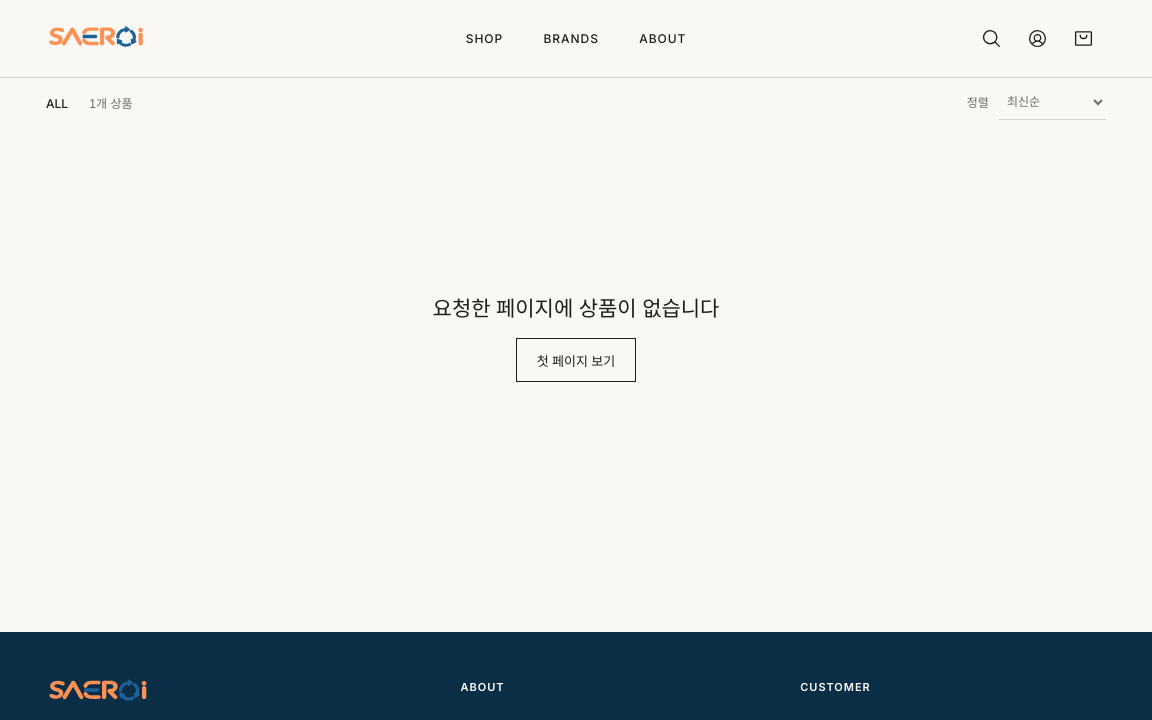
it: consumer SHOP › offers first-page recovery when a bookmarked page no longer exists
(page scrolled)
Check: the heading "요청한 페이지에 상품이 없습니다" is shown, box [433, 292, 720, 322]
Click the button "첫 페이지 보기".
click(576, 360)  # box [516, 338, 636, 382]
(page scrolled)
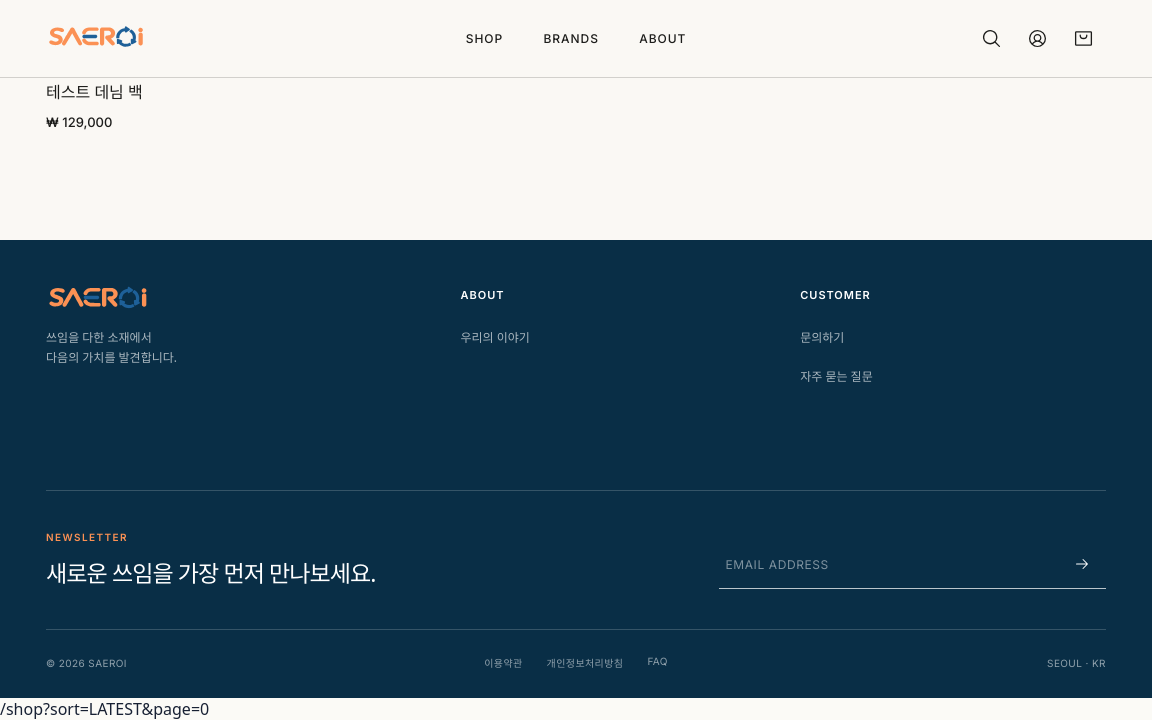
Check: the text named "현재 위치" shows "page=0", box [43, 698, 209, 719]
